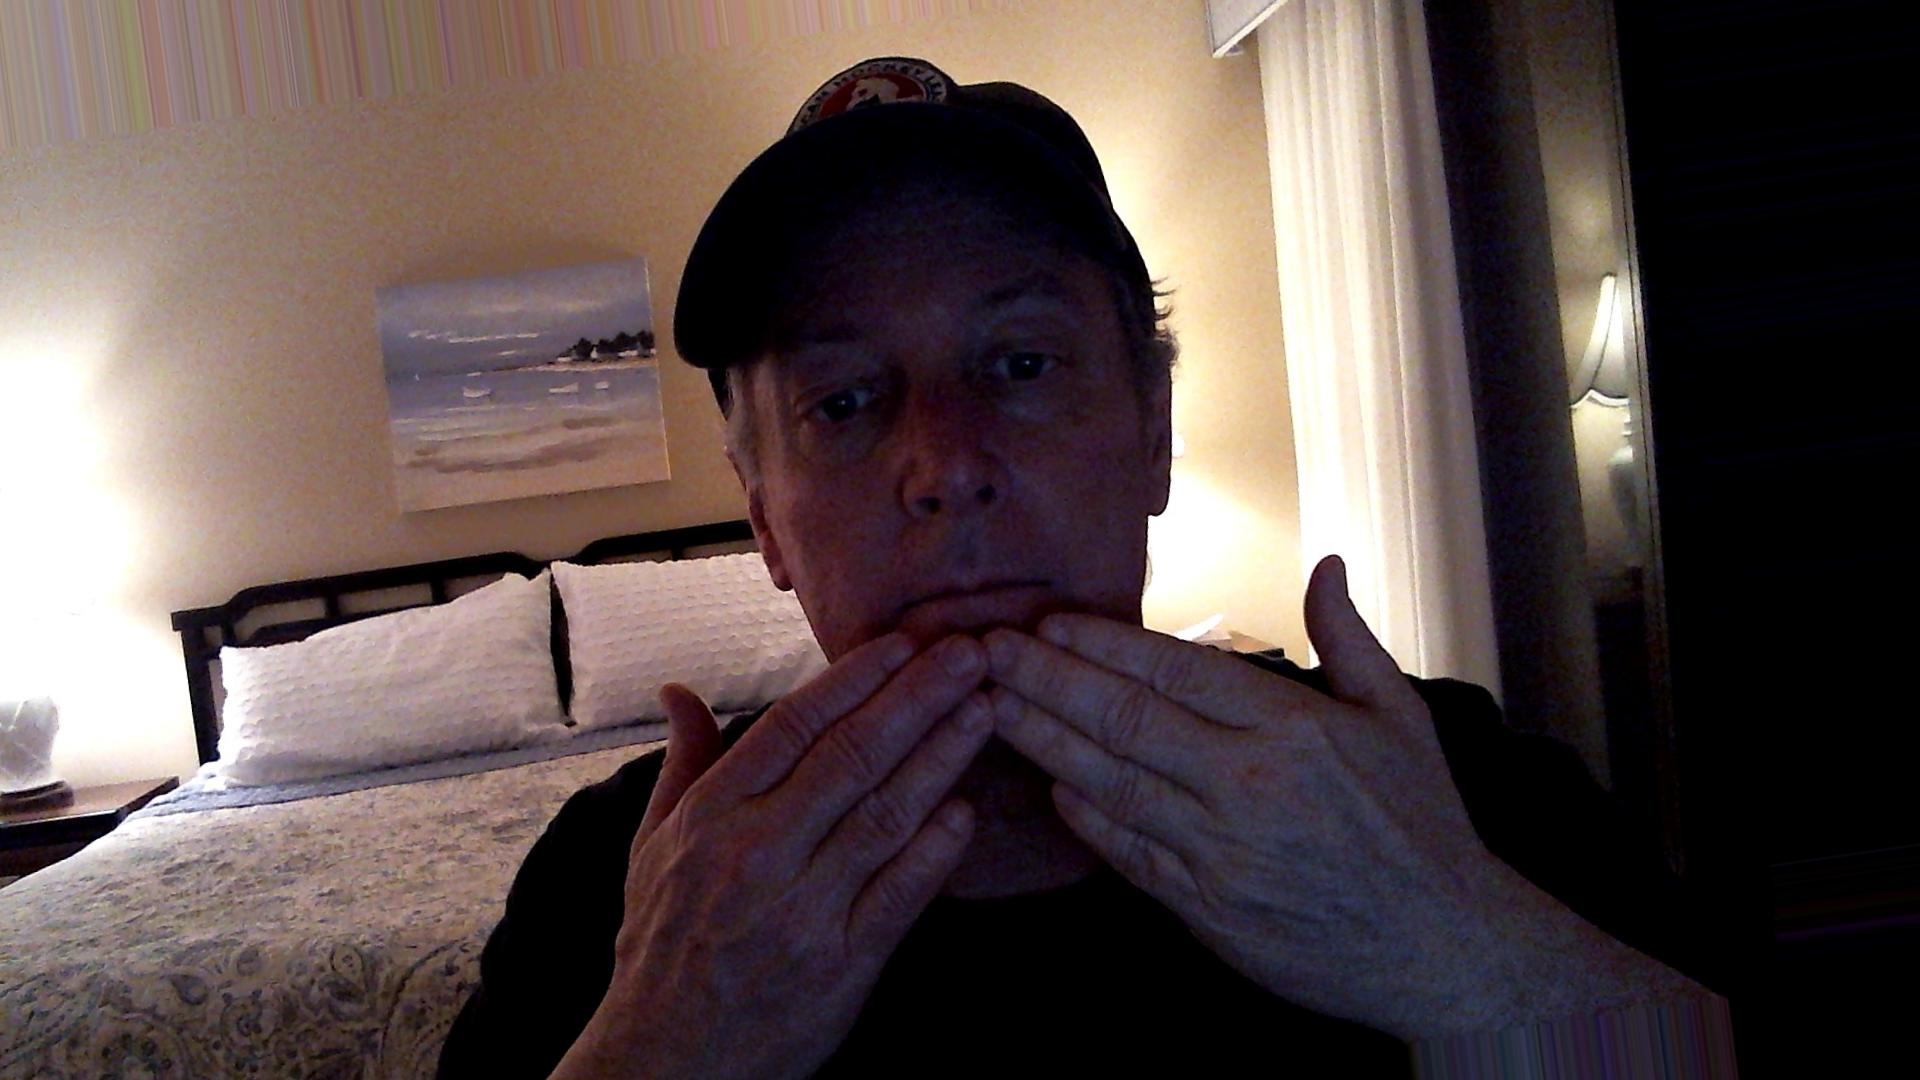Thank You: (559, 542, 1539, 994)
